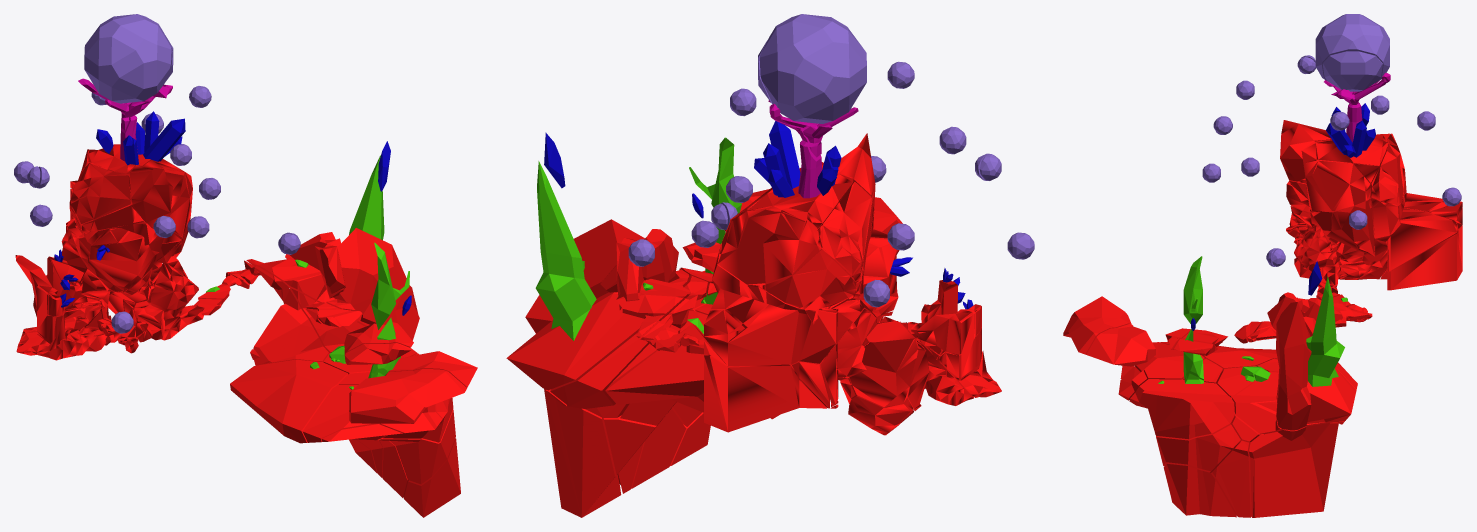
The model's file is Full Tutorial Level.fbx.
3 views of the same model, side by side, from view 1: azimuth 30°, elevation 25°; view 2: azimuth 150°, elevation 25°; view 3: azimuth 270°, elevation 25° (orthographic). The views are drawn at different scales.
Parts seen in each view (by area): view 1: start, end, floating_balls, pillars, Crystals_1, tree; view 2: end, start, floating_balls, pillars, Crystals_1, tree; view 3: start, end, floating_balls, pillars, Crystals_1, tree, rocks.
Part boxes in pixels (<box>): start: <box>194,228,477,517</box>; end: <box>15,144,204,360</box>; floating_balls: <box>14,14,300,333</box>; pillars: <box>349,155,409,378</box>; Crystals_1: <box>54,111,411,315</box>; tree: <box>78,78,172,161</box>; end: <box>704,133,1001,435</box>; start: <box>506,189,902,517</box>; floating_balls: <box>628,14,1034,307</box>; pillars: <box>535,137,741,340</box>; Crystals_1: <box>544,121,973,309</box>; tree: <box>768,100,858,198</box>; start: <box>1063,292,1372,517</box>; end: <box>1280,120,1462,294</box>; floating_balls: <box>1202,14,1461,266</box>; pillars: <box>1183,256,1344,386</box>; Crystals_1: <box>1191,103,1375,330</box>; tree: <box>1324,73,1390,142</box>; rocks: <box>1158,297,1347,383</box>.
Bounding box in the file's own units: 17206 × 19718 × 17634.
